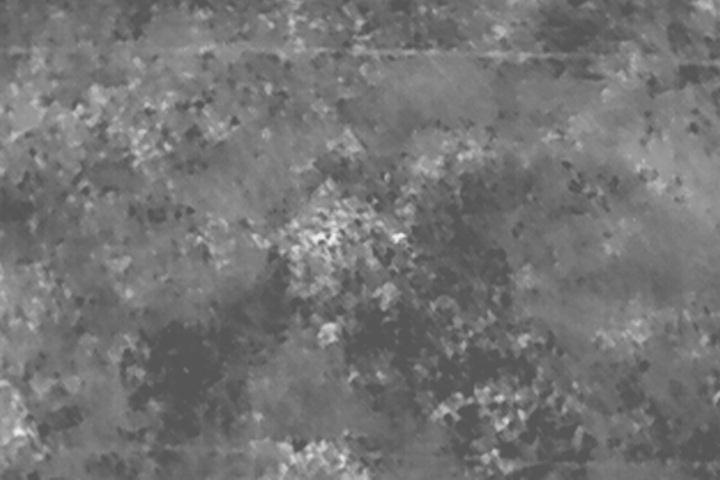landmine: (308, 226, 335, 250)
